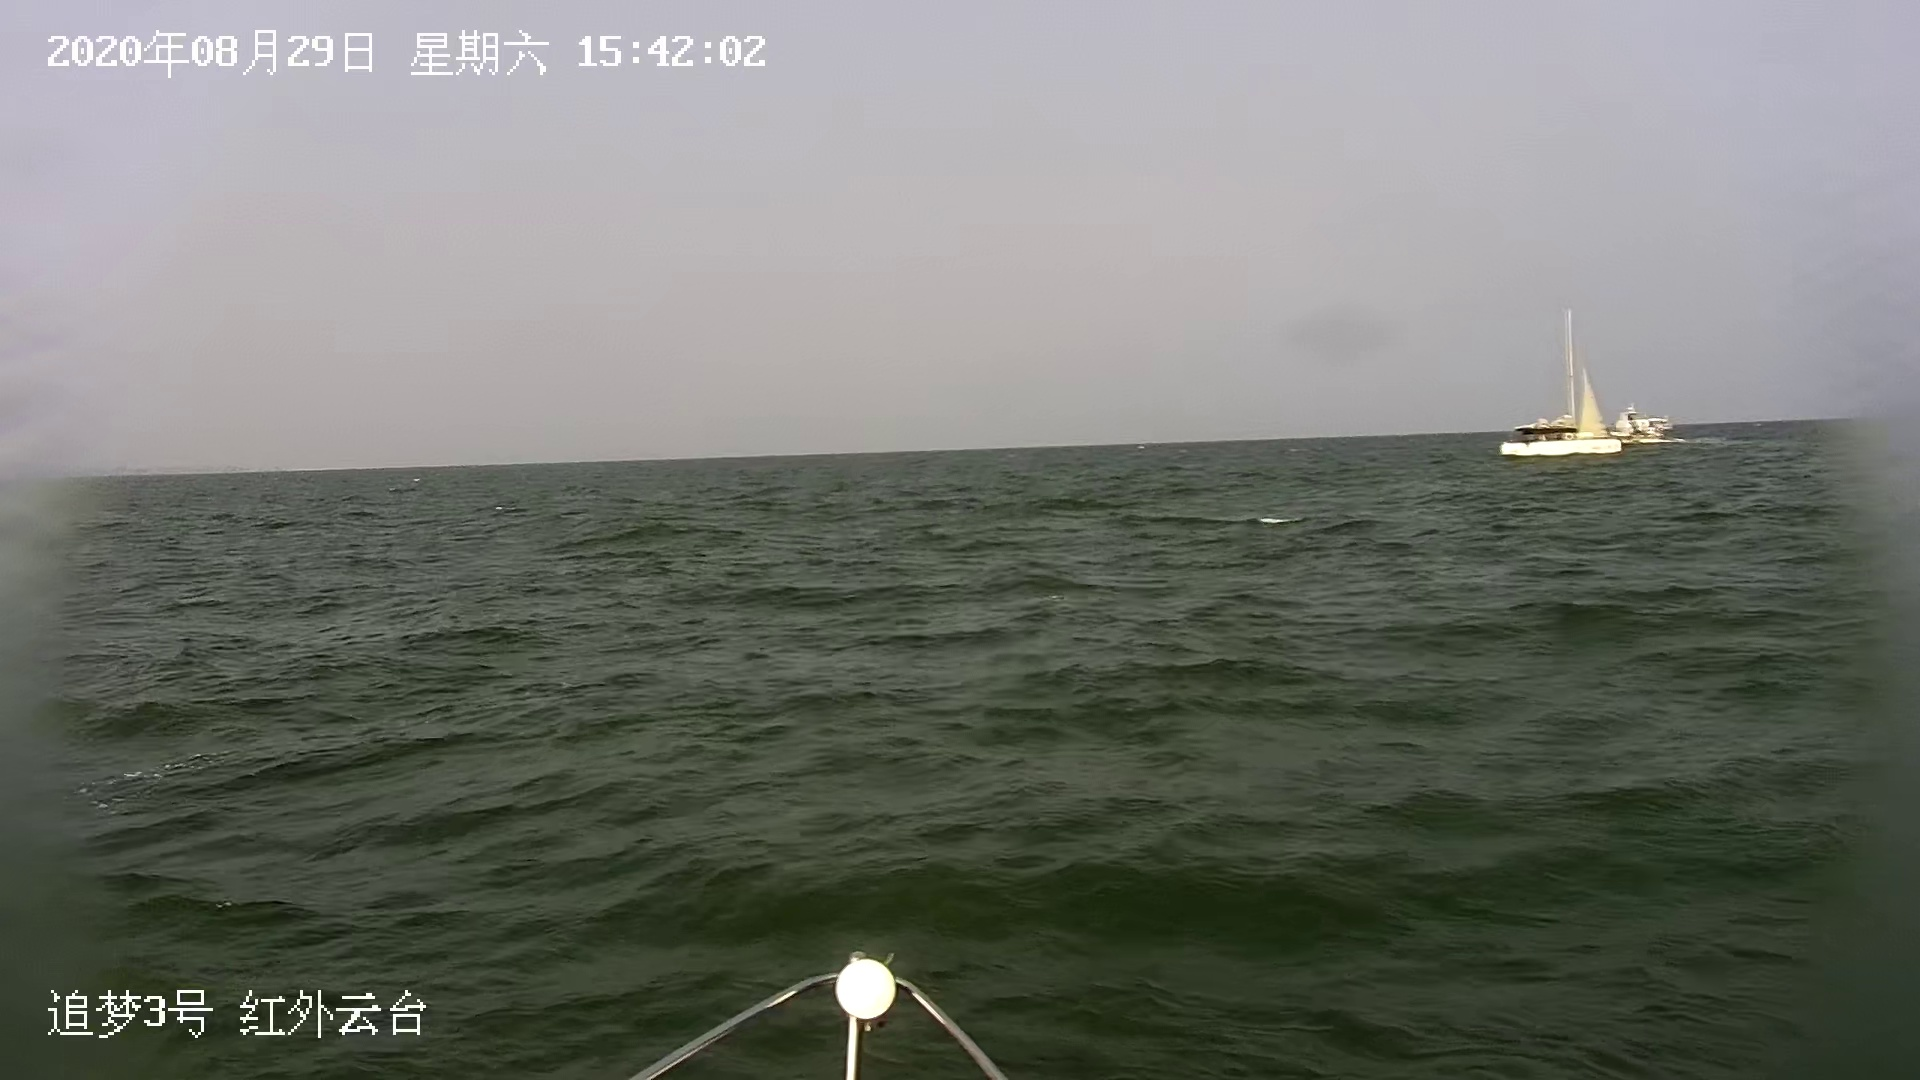barrier: (1499, 306, 1623, 459), (1515, 410, 1676, 444)
